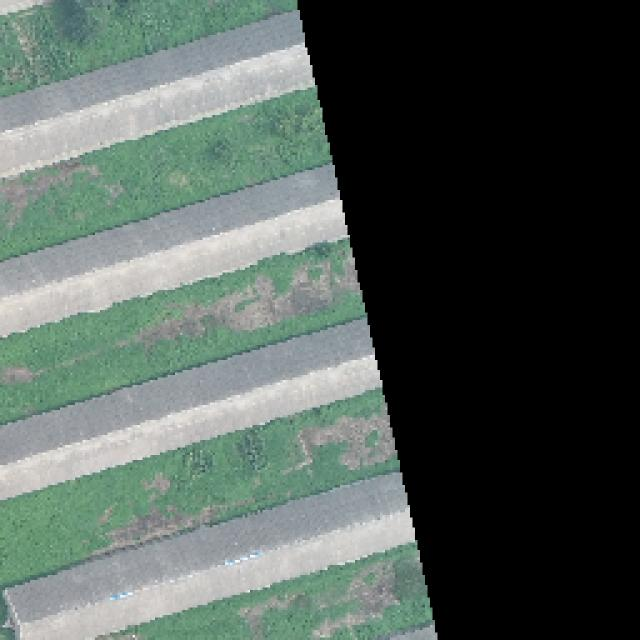Batiment: (5, 474, 409, 640), (4, 320, 380, 498), (1, 166, 344, 336), (1, 13, 311, 177)
